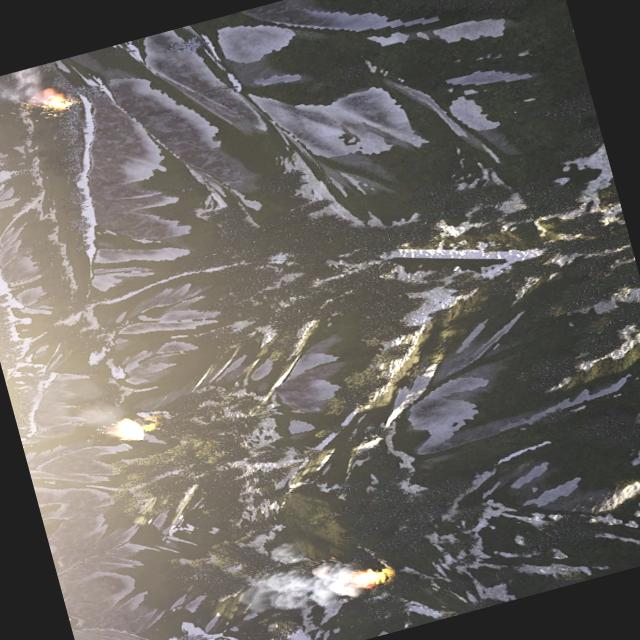fire: (114, 414, 147, 444), (351, 562, 387, 588), (40, 84, 70, 112)
smoke: (232, 528, 364, 624), (0, 63, 53, 113), (74, 395, 124, 432)
